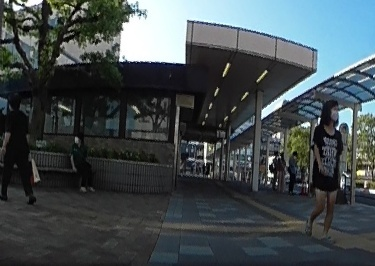person: (309, 98, 340, 240), (70, 130, 94, 193), (270, 152, 281, 189), (288, 150, 299, 187), (277, 149, 287, 187)
